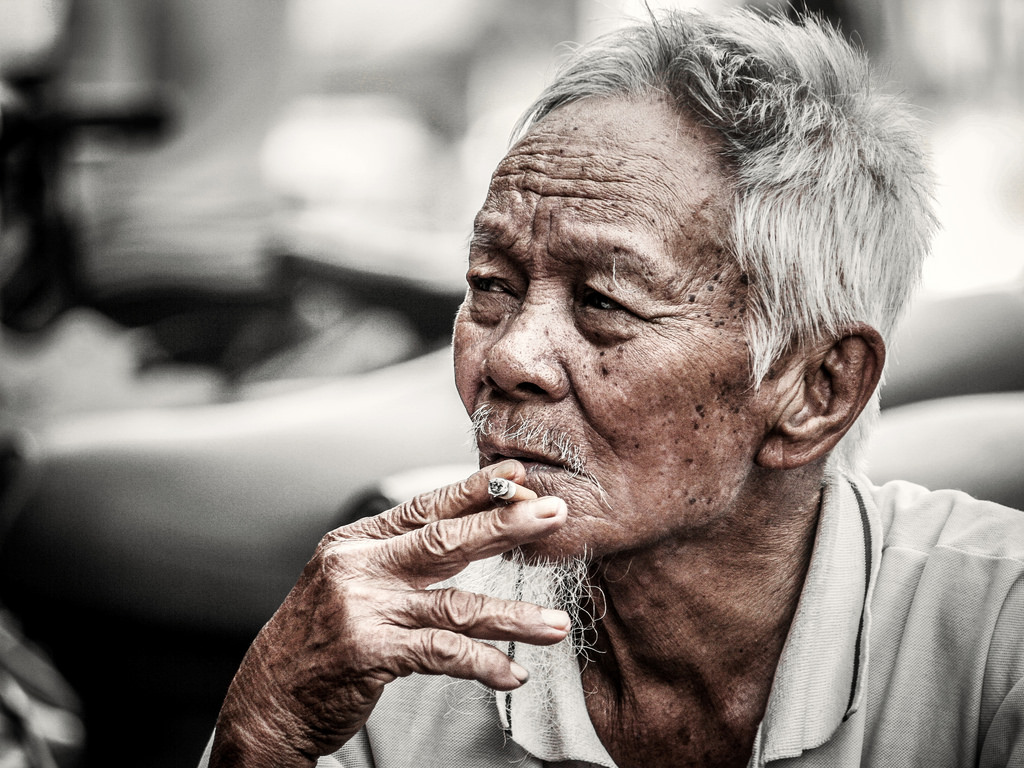cigarette: (481, 470, 545, 509)
